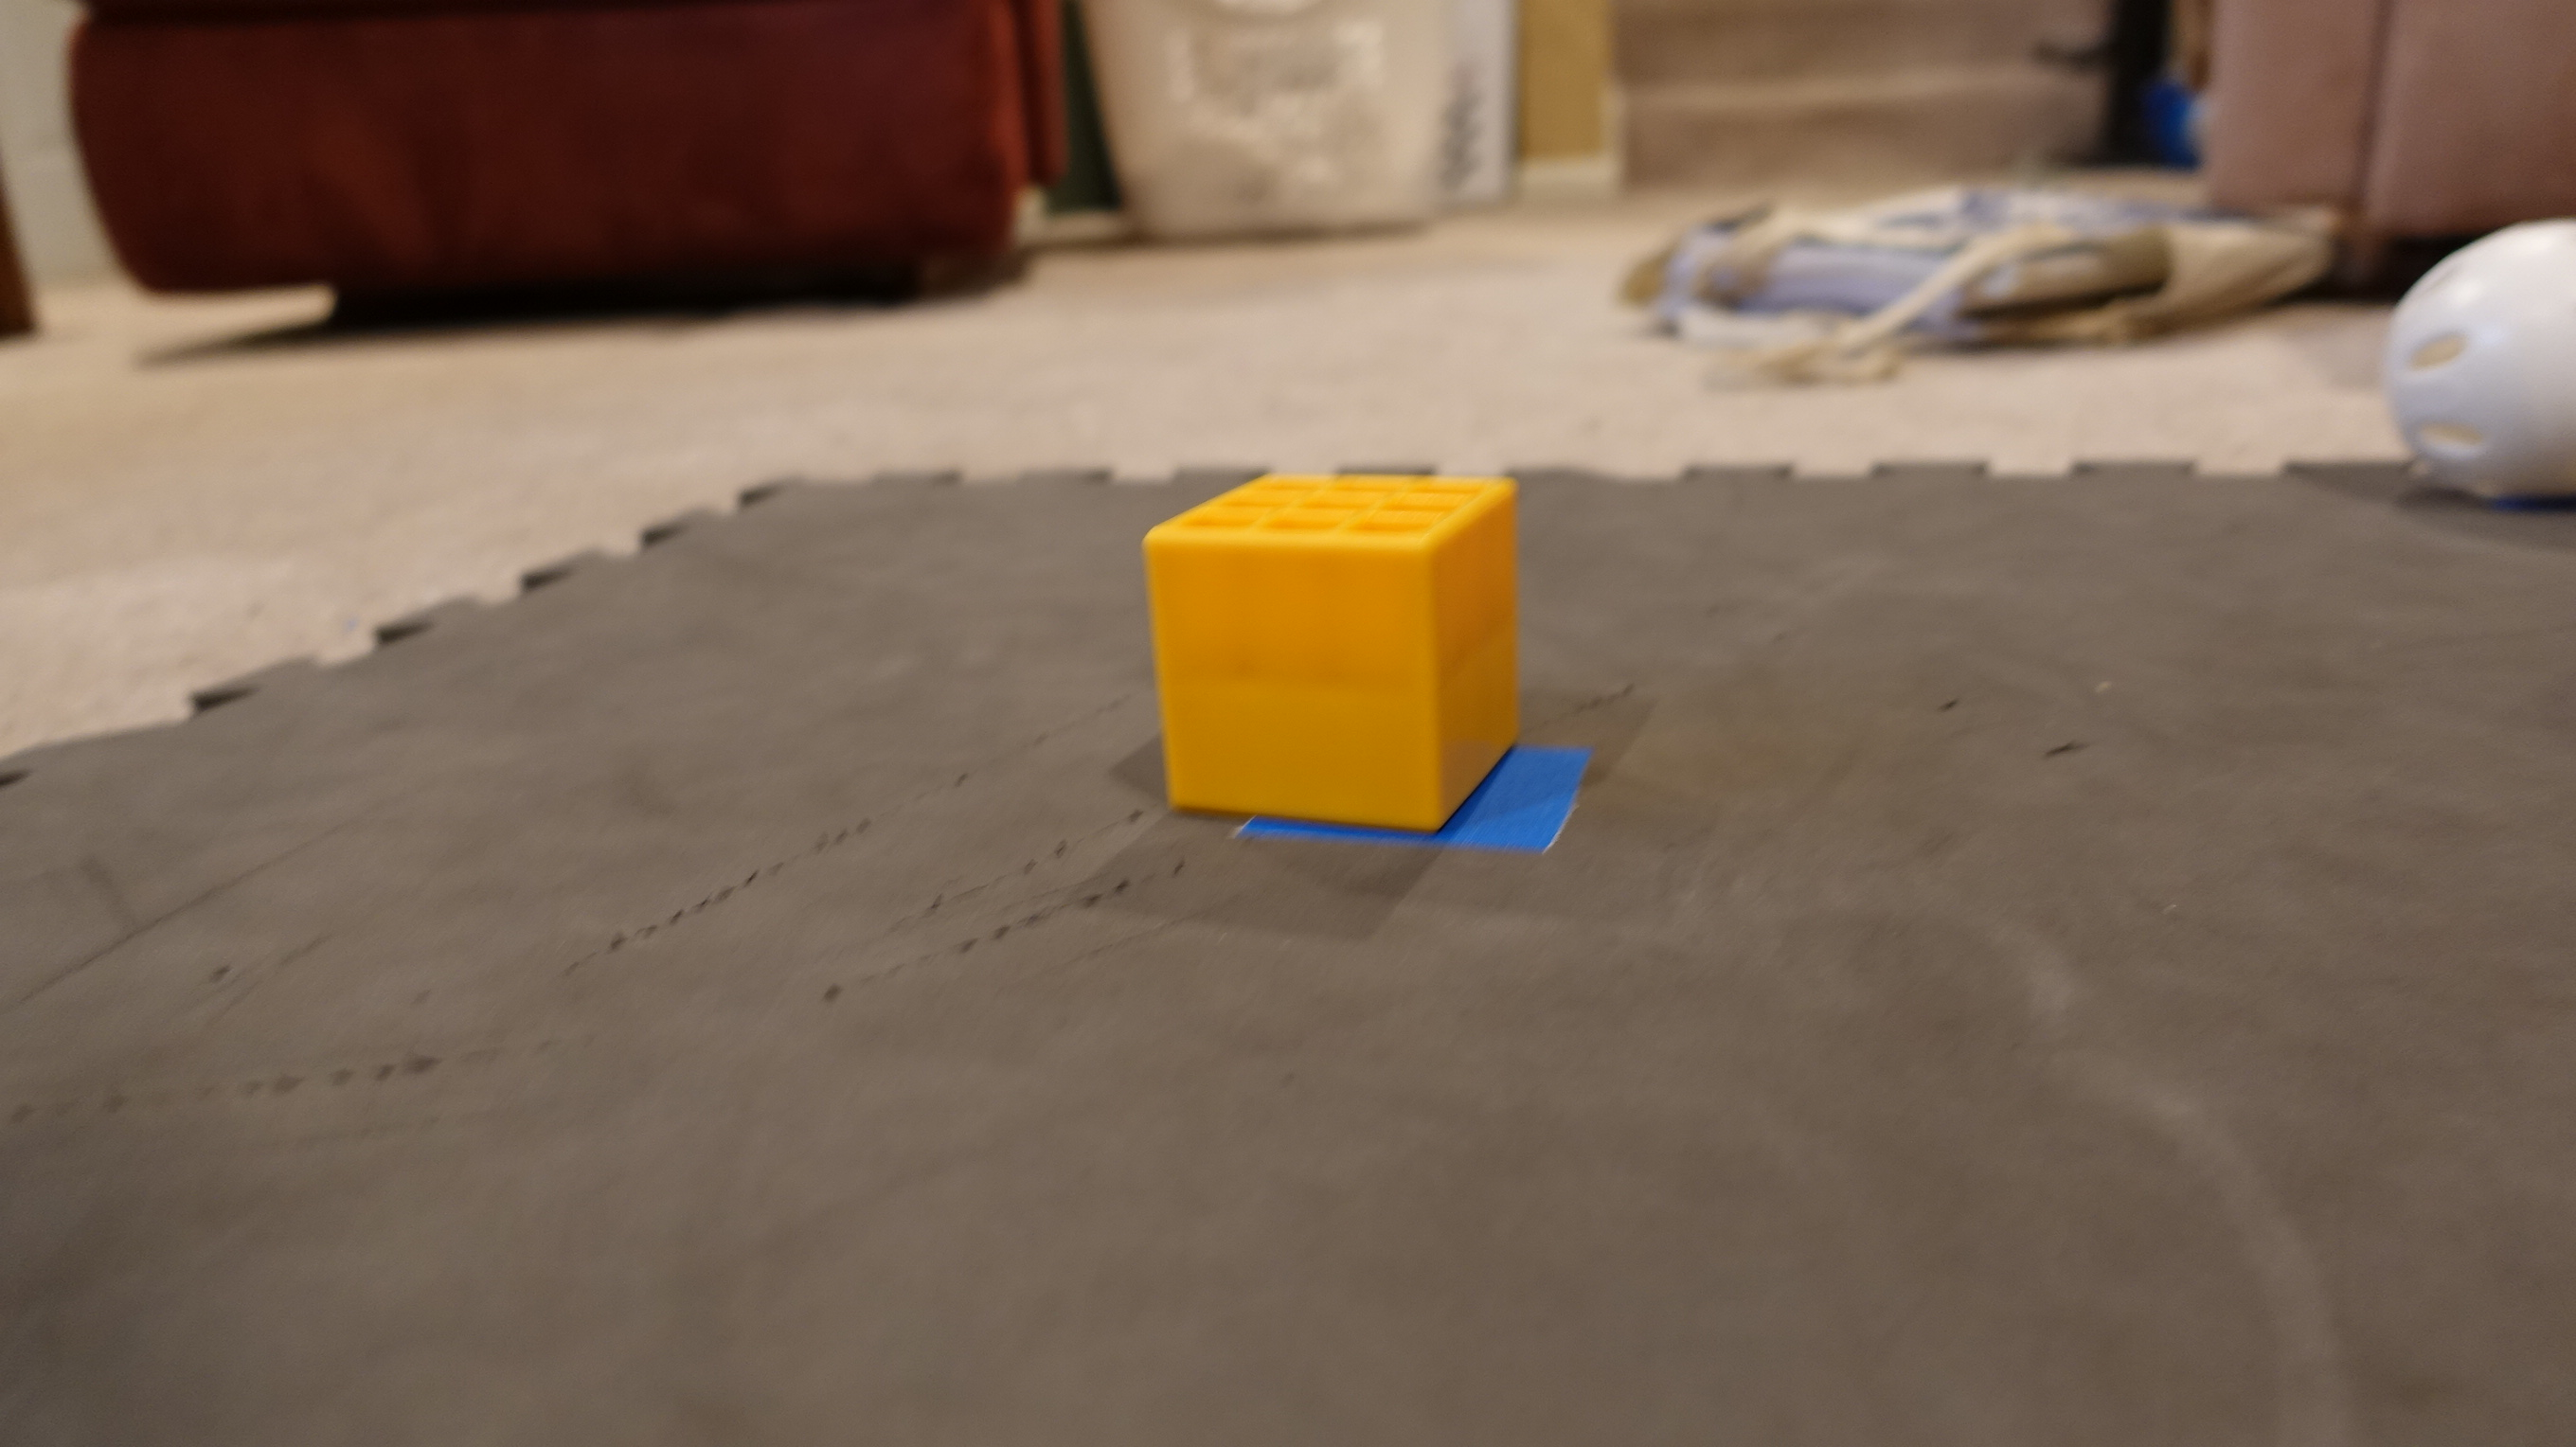gold: (1134, 455, 1530, 830)
silver: (2383, 209, 2572, 524)
